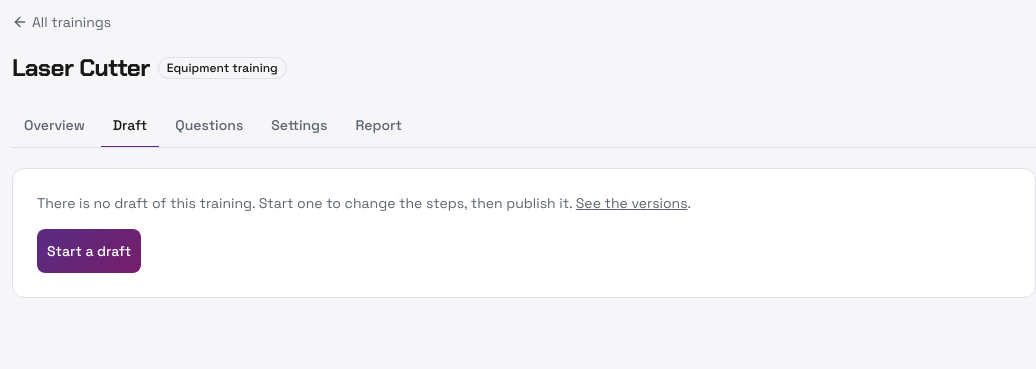
Scenario: DraftEditor without a draft › says why a draft could not be started
Expected: the heading "Laser Cutter" is shown, [12,52,150,84]
Click the button "Start a draft": (89, 251) [37,229,141,273]
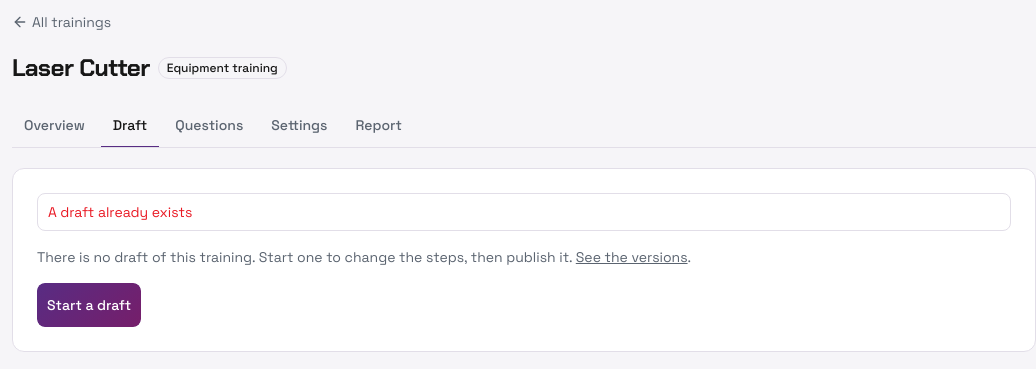
Expected: the text "A draft already exists" is shown, [48,203,192,221]
